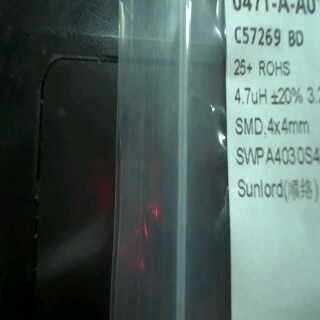4.7uH: (231, 84, 272, 105)
